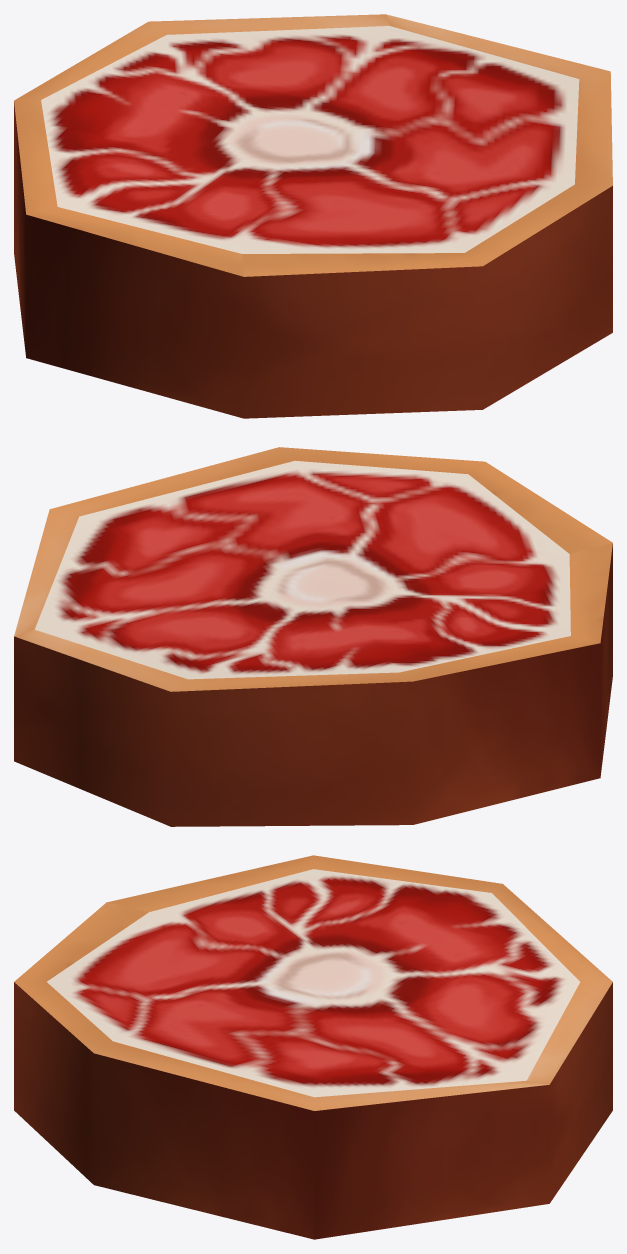
Rendered from SM_PROP_food_meat_04.FBX.
The picture shows the model from 3 angles, top to bottom: view 1: azimuth 30°, elevation 25°; view 2: azimuth 150°, elevation 25°; view 3: azimuth 270°, elevation 25°; orthographic projection. The views are drawn at different scales.
Visible parts, largest first — view 1: SM_PROP_food_meat_04; view 2: SM_PROP_food_meat_04; view 3: SM_PROP_food_meat_04.
Boxes of the visible parts, bbox=[...] form: SM_PROP_food_meat_04: bbox=[14, 14, 612, 418]; SM_PROP_food_meat_04: bbox=[14, 447, 612, 826]; SM_PROP_food_meat_04: bbox=[14, 855, 612, 1239].
Bounding box in the file's own units: 36.84 × 36.46 × 9.8.
